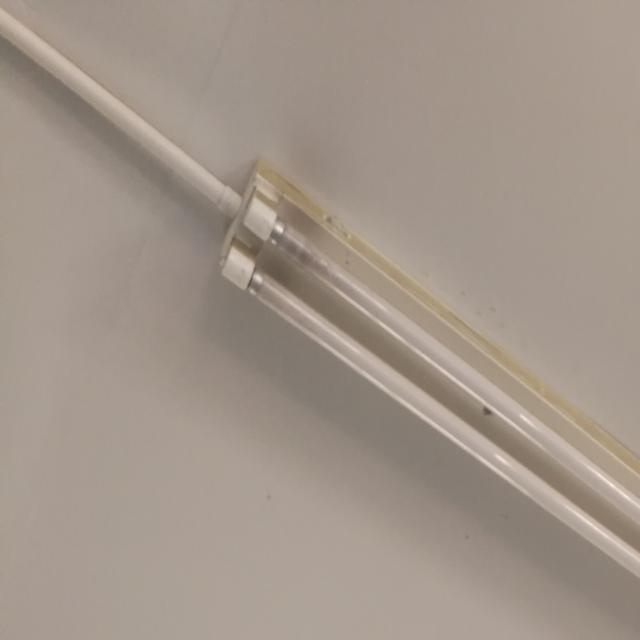fluorescent tube: (188, 127, 640, 640)
